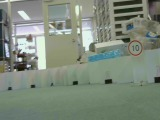speed_10: (126, 39, 144, 57)
